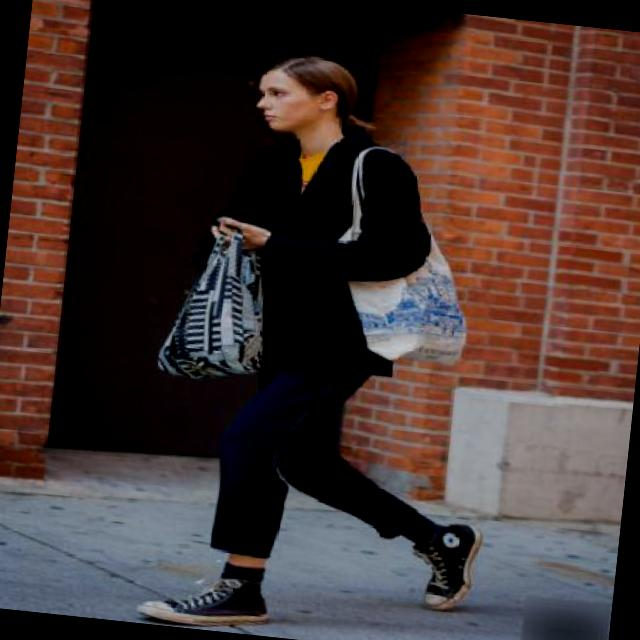Person: (156, 37, 525, 640)
